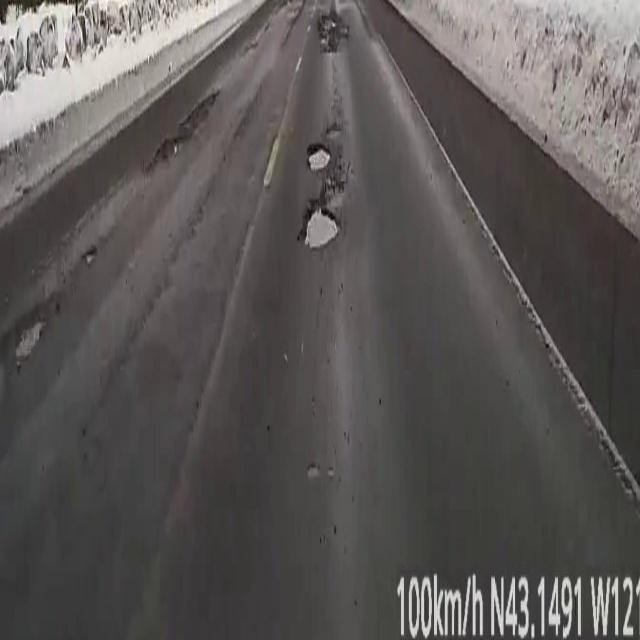pothole: (146, 90, 220, 172), (10, 309, 48, 375), (302, 205, 338, 248), (320, 16, 348, 54), (308, 143, 330, 171)
